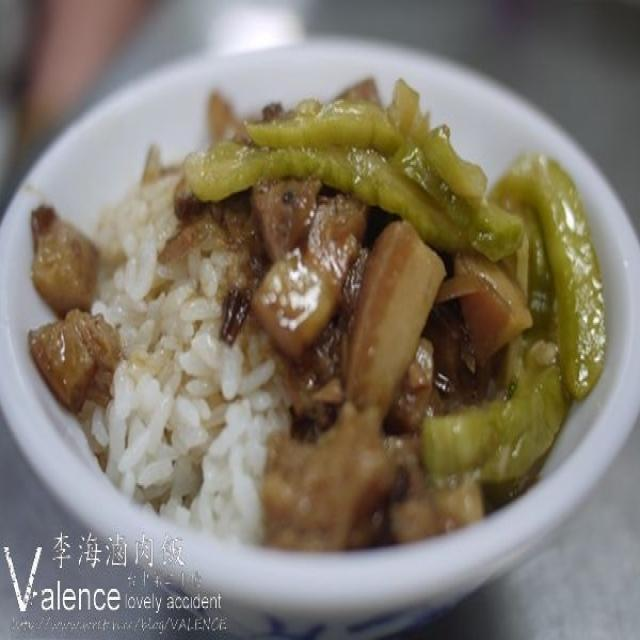猪肉菜式: (5, 13, 636, 613)
